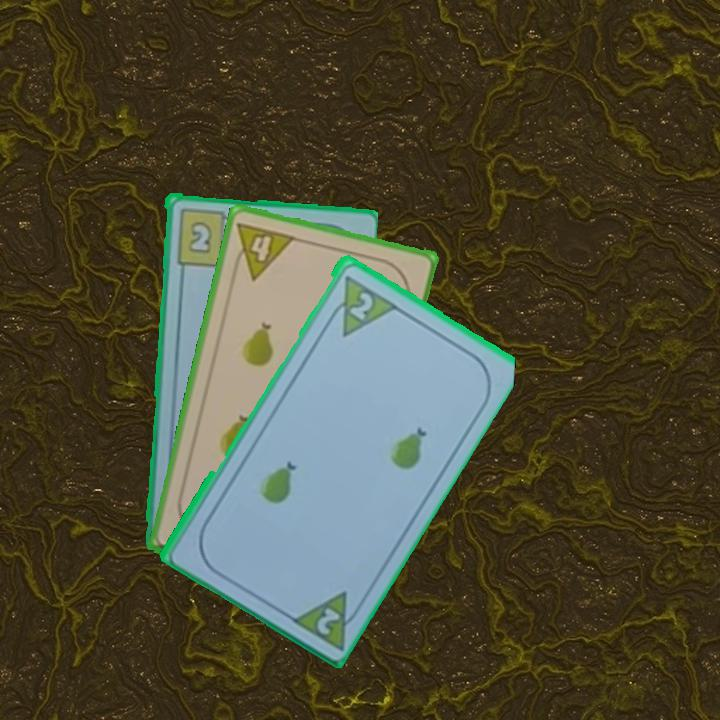2b: (172, 205, 237, 268)
2p: (345, 288, 376, 323), (312, 603, 343, 638)
4p: (228, 218, 298, 283)
